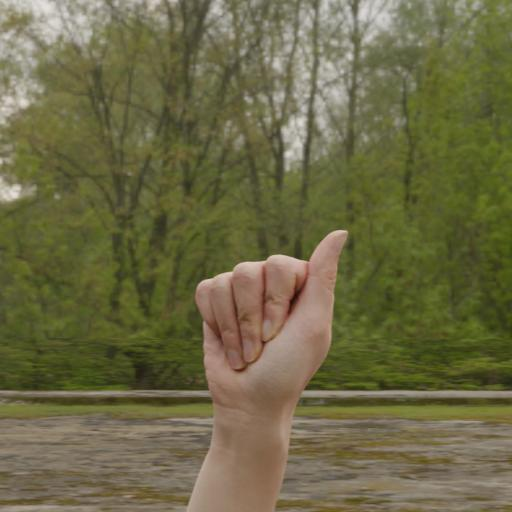A: (167, 213, 371, 512)
